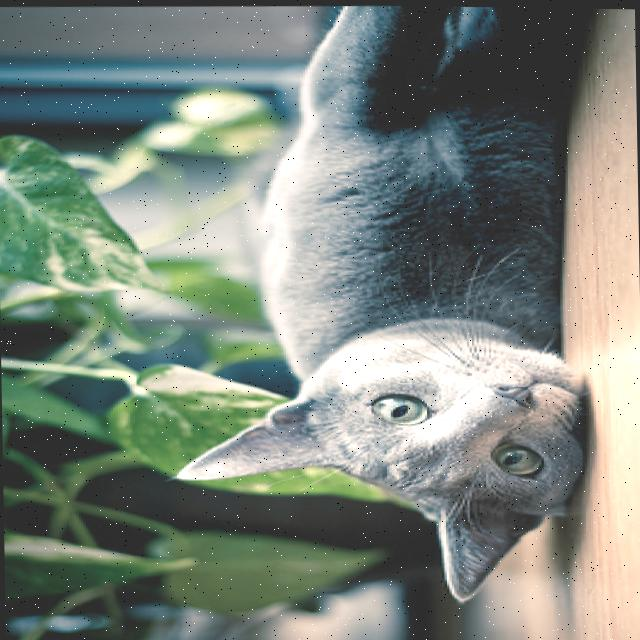Russian Blue: (163, 2, 615, 610)
